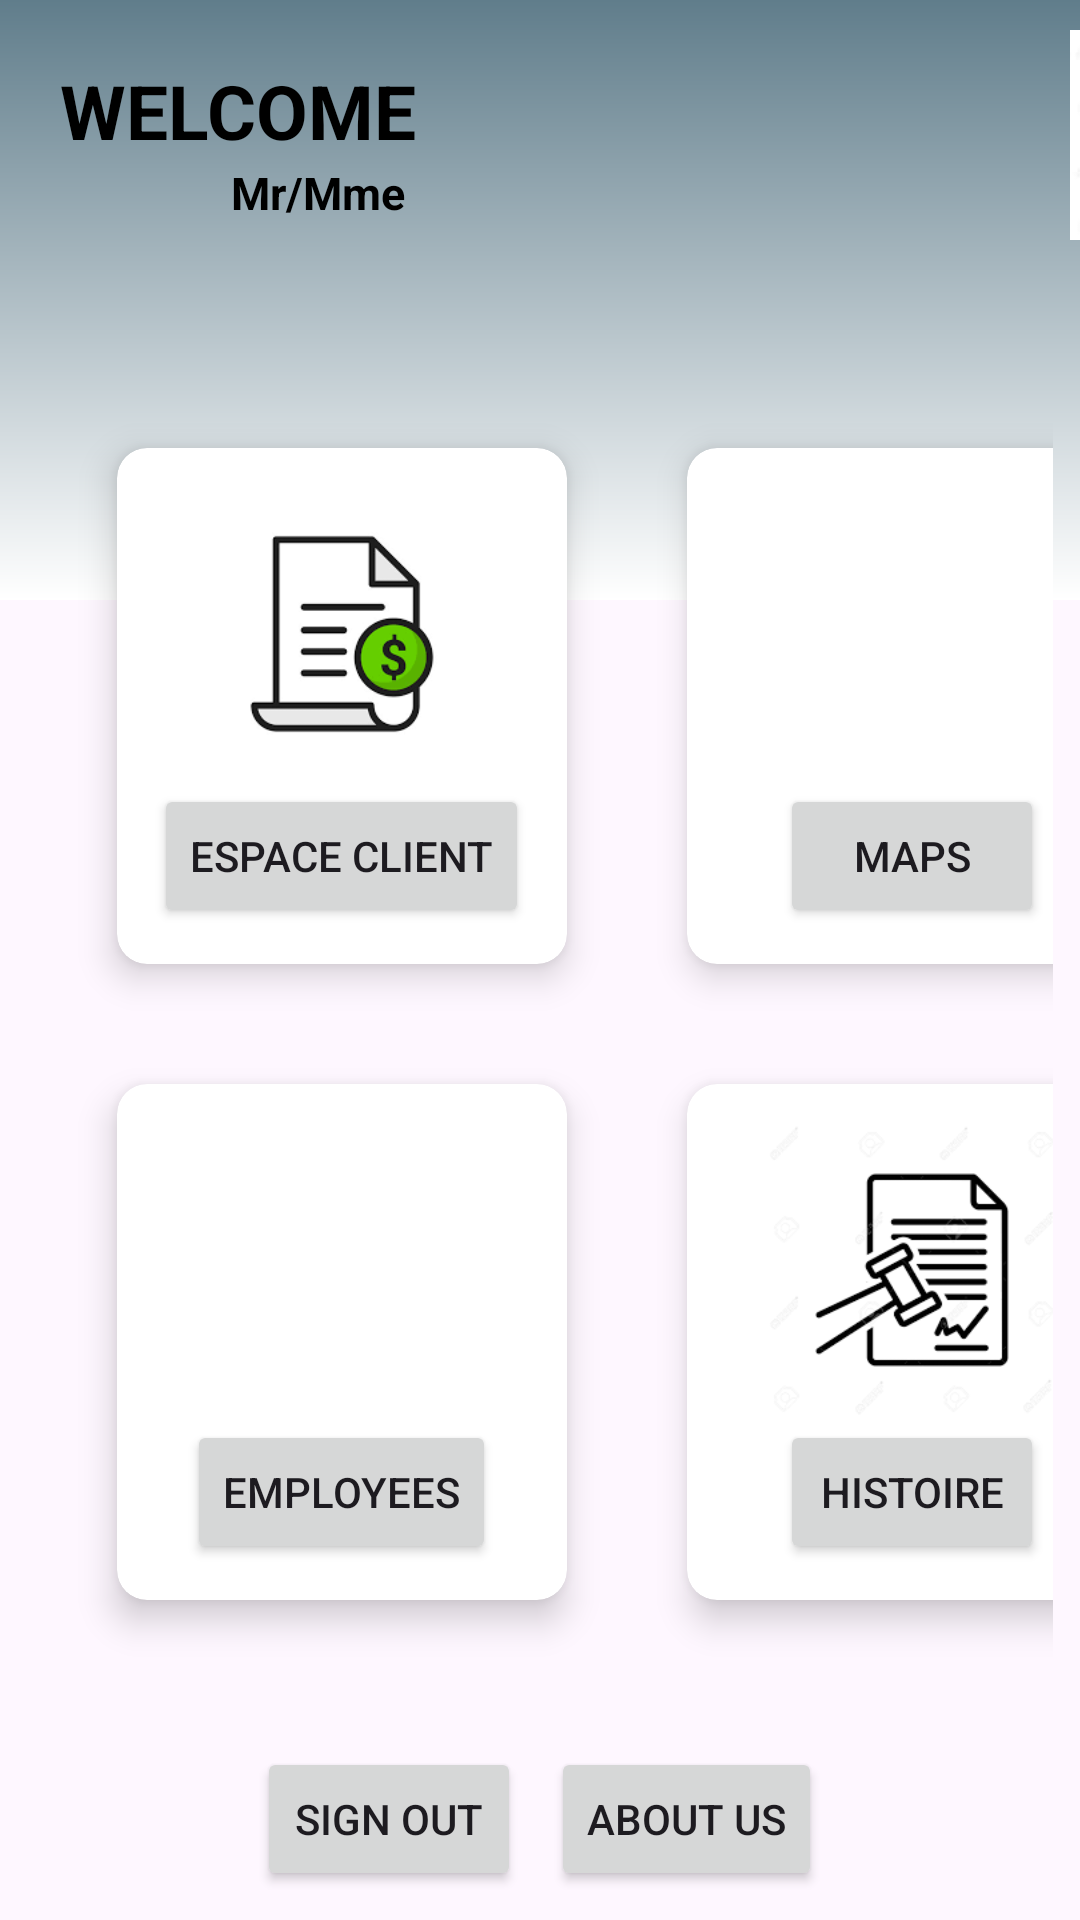

Screen size 1080 × 1920. Icon name, then its box in pixels as (x1, y1, x2, y2):
factures: (250, 536, 434, 732)
reclam: (815, 1173, 1009, 1367)
